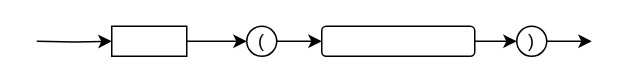
This 630x83 diagram has some shape labels left out. Here are the shapes that lost their labels. From the top down, the centre of each, then its label:
At (148,40): "not".
At (397,40): "selector".
